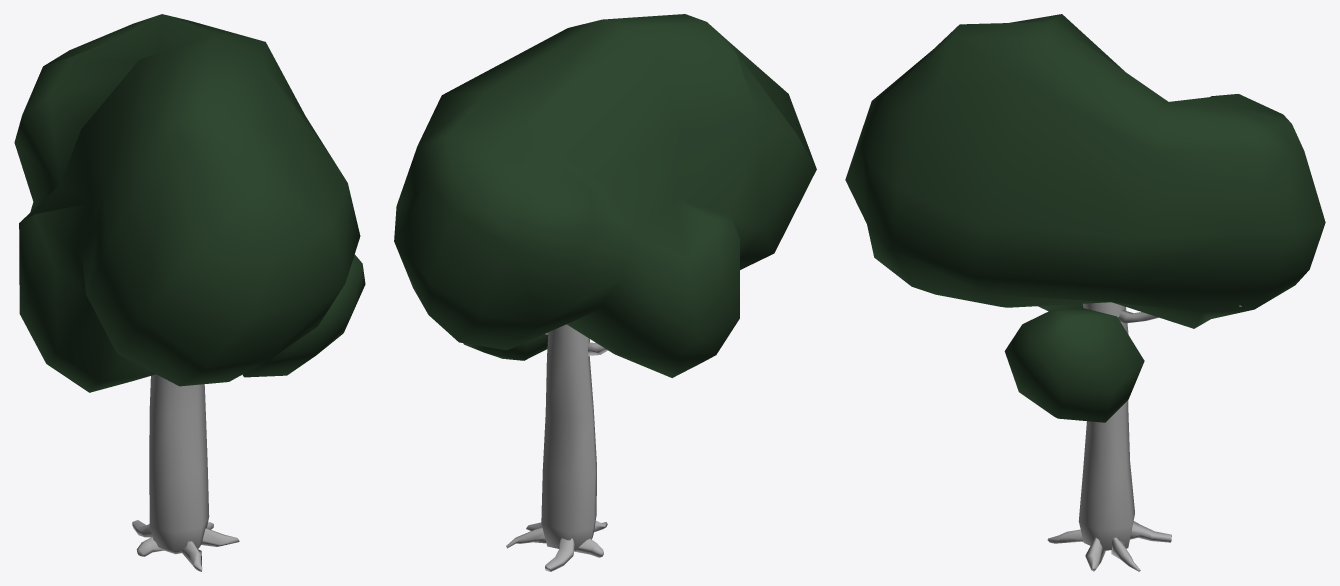
File: Boom.fbx
3 views of the same model, side by side, from view 1: azimuth 30°, elevation 25°; view 2: azimuth 150°, elevation 25°; view 3: azimuth 270°, elevation 25° (orthographic). The views are drawn at different scales.
Visible parts, largest first — view 1: blad1, tak; view 2: blad1, tak; view 3: blad1, tak.
Part boxes in pixels (x1,y1,x2,y2): blad1: (14, 14, 365, 392); tak: (132, 374, 239, 571); blad1: (394, 14, 816, 377); tak: (506, 324, 607, 571); blad1: (845, 14, 1325, 422); tak: (1047, 302, 1241, 571).
Size of the model in its own units: 5.14 by 8.14 by 6.9.
